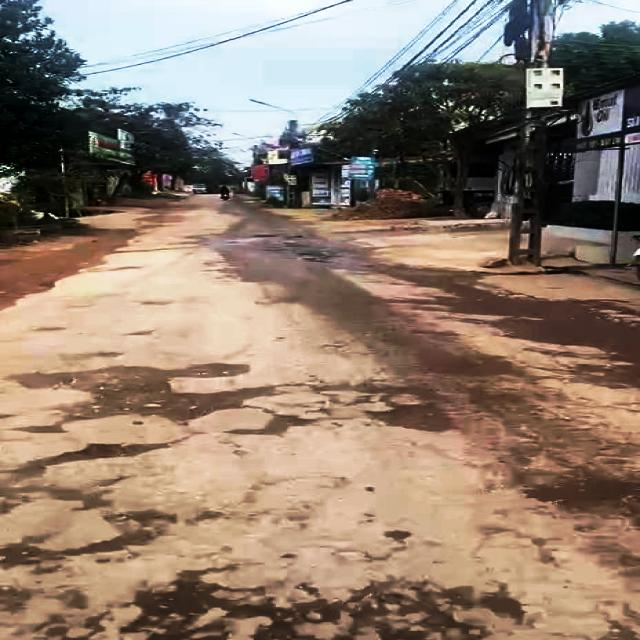pothole: (123, 561, 532, 640), (0, 361, 287, 434), (0, 439, 179, 506), (0, 508, 174, 574), (505, 456, 640, 515), (368, 399, 464, 435), (225, 408, 328, 437)
